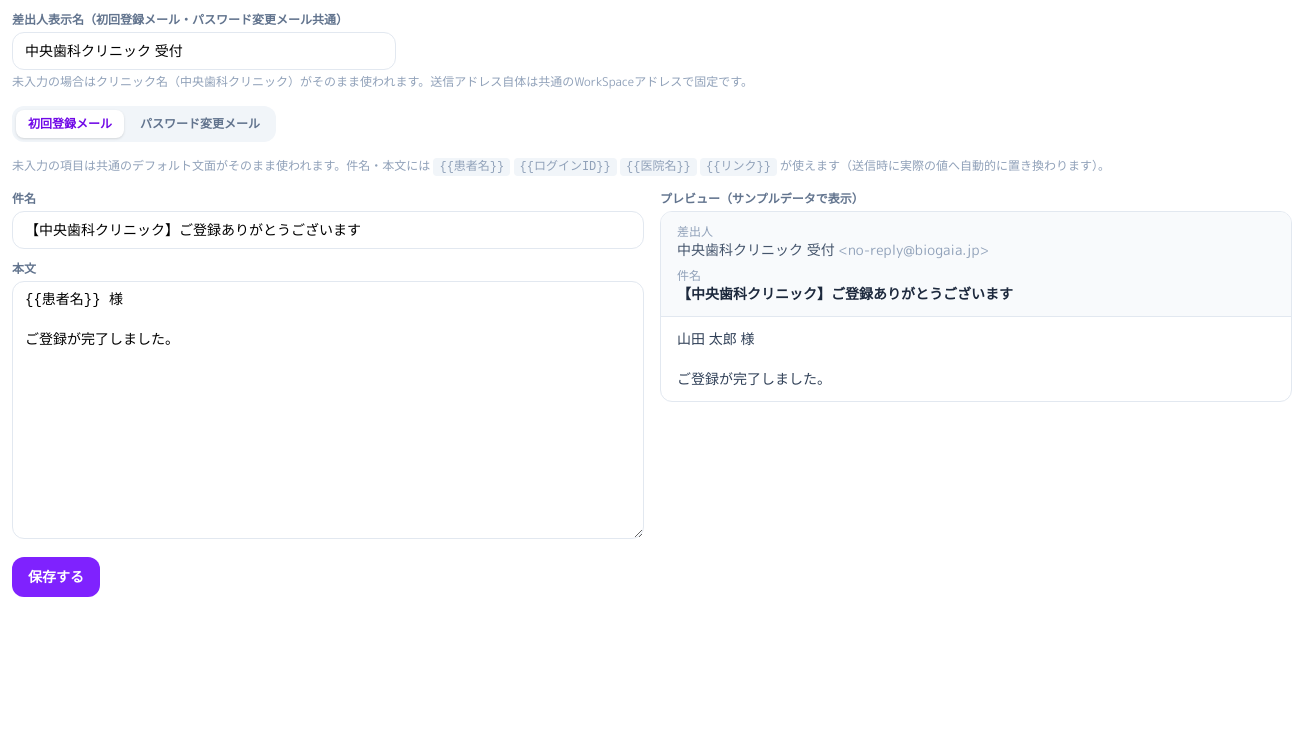
ClinicEmailTemplatesManager › タブを切り替えるとパスワード変更メールの件名・本文に切り替わる
Expected: the field showing "【中央歯科クリニック】ご登録ありがとうございます" next to "中央歯科クリニック 受付" is shown, [12,211,644,249]
Click the button "パスワード変更メール".
click(200, 124)  # box [128,110,272,138]
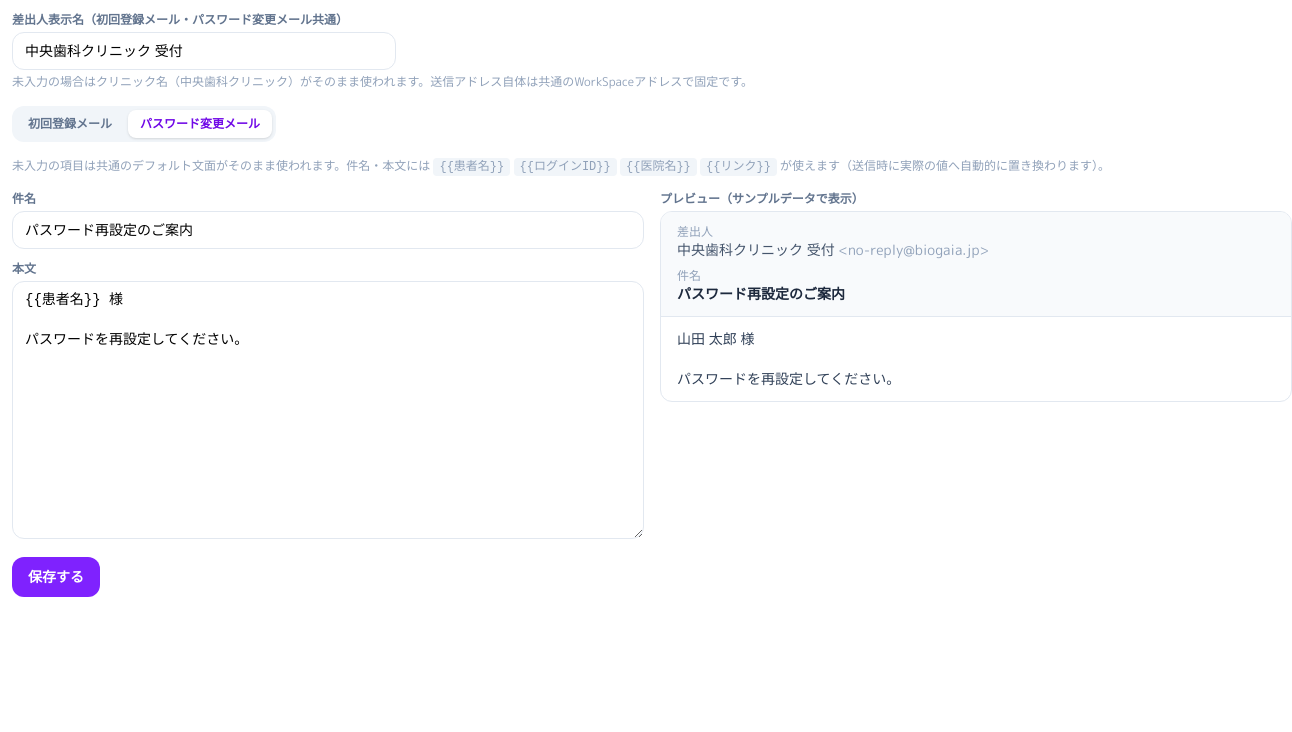
Now the field showing "パスワード再設定のご案内" next to "中央歯科クリニック 受付" is shown, box [12,211,644,249]
Now the text showing "【中央歯科クリニック】ご登録ありがとうございます" is gone
